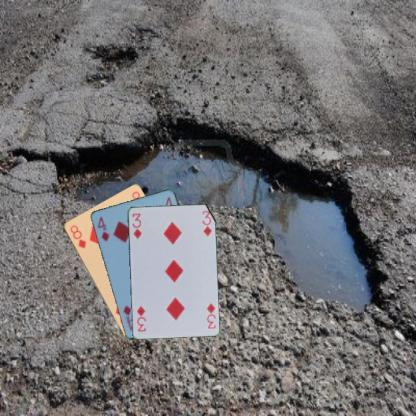3d: (129, 210, 143, 240), (204, 300, 216, 330)
4d: (95, 214, 110, 243)
8d: (67, 222, 87, 250)
